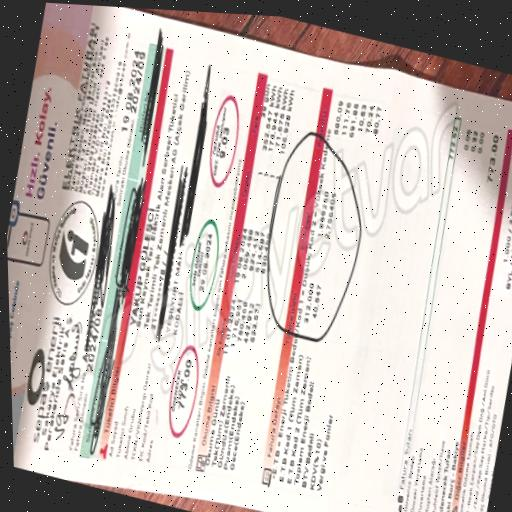electricity-bill: (7, 3, 512, 512)
